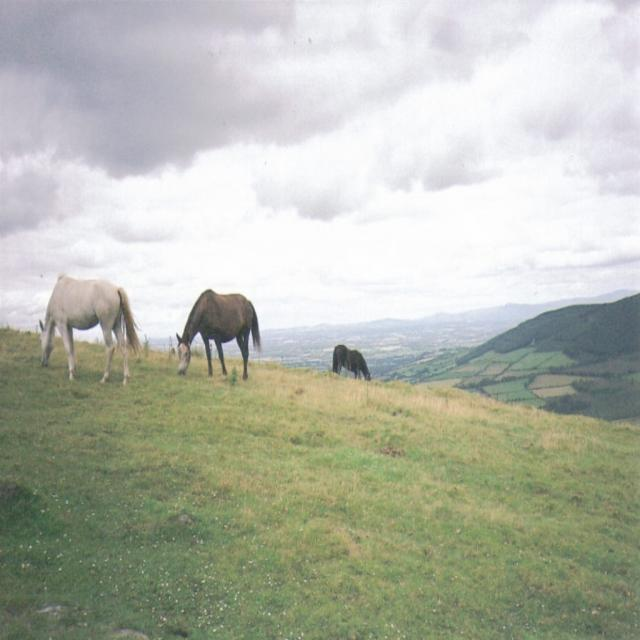Horse: (37, 272, 141, 389), (175, 282, 262, 375), (333, 342, 370, 382)
